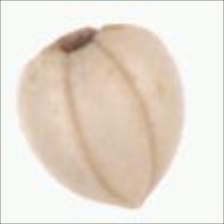L5: (62, 44, 159, 208), (47, 24, 107, 54)
L6: (15, 21, 186, 211)
